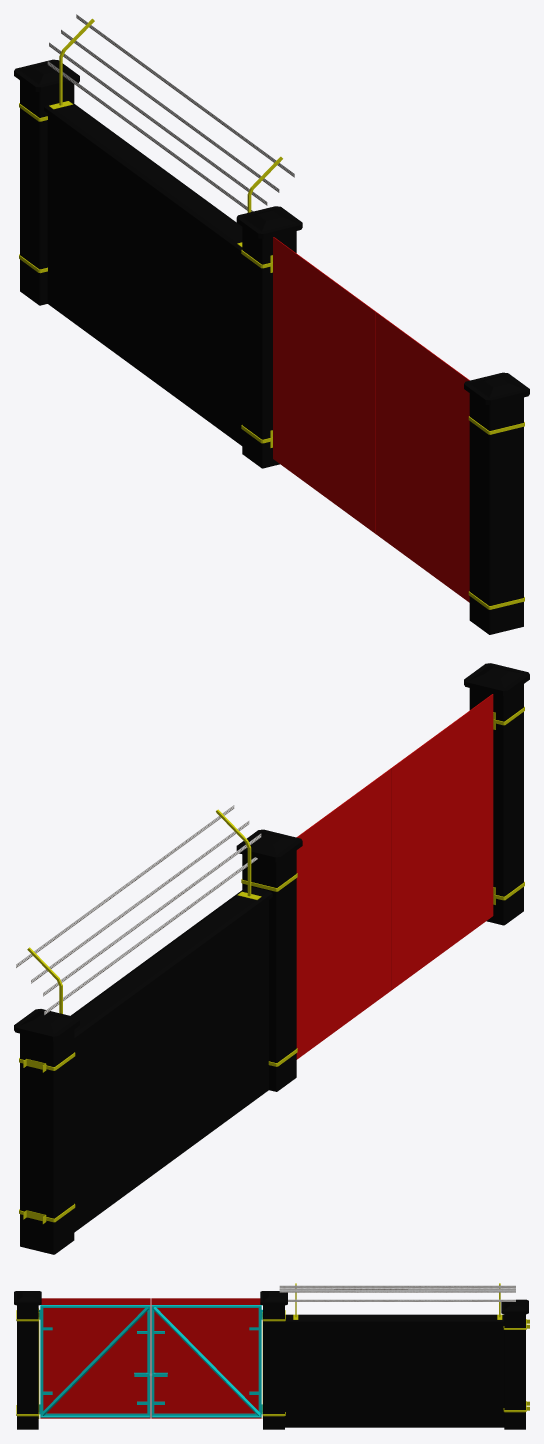
File: WallGate_End.fbx
3 views of the same model, one above another, from view 1: azimuth 30°, elevation 25°; view 2: azimuth 150°, elevation 25°; view 3: azimuth 270°, elevation 25° (orthographic). The views are drawn at different scales.
Parts seen in each view (by area): view 1: WallAGateShape; view 2: WallAGateShape; view 3: WallAGateShape.
Boxes of the visible parts, x1=… form: WallAGateShape: x1=14, y1=14, x2=529, y2=634; WallAGateShape: x1=14, y1=663, x2=529, y2=1254; WallAGateShape: x1=14, y1=1283, x2=529, y2=1429.
Size of the model in its own units: 0.8795 by 4.21 by 13.09.
